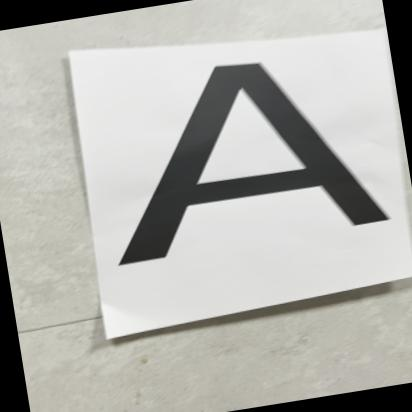seat: (76, 22, 410, 296)
